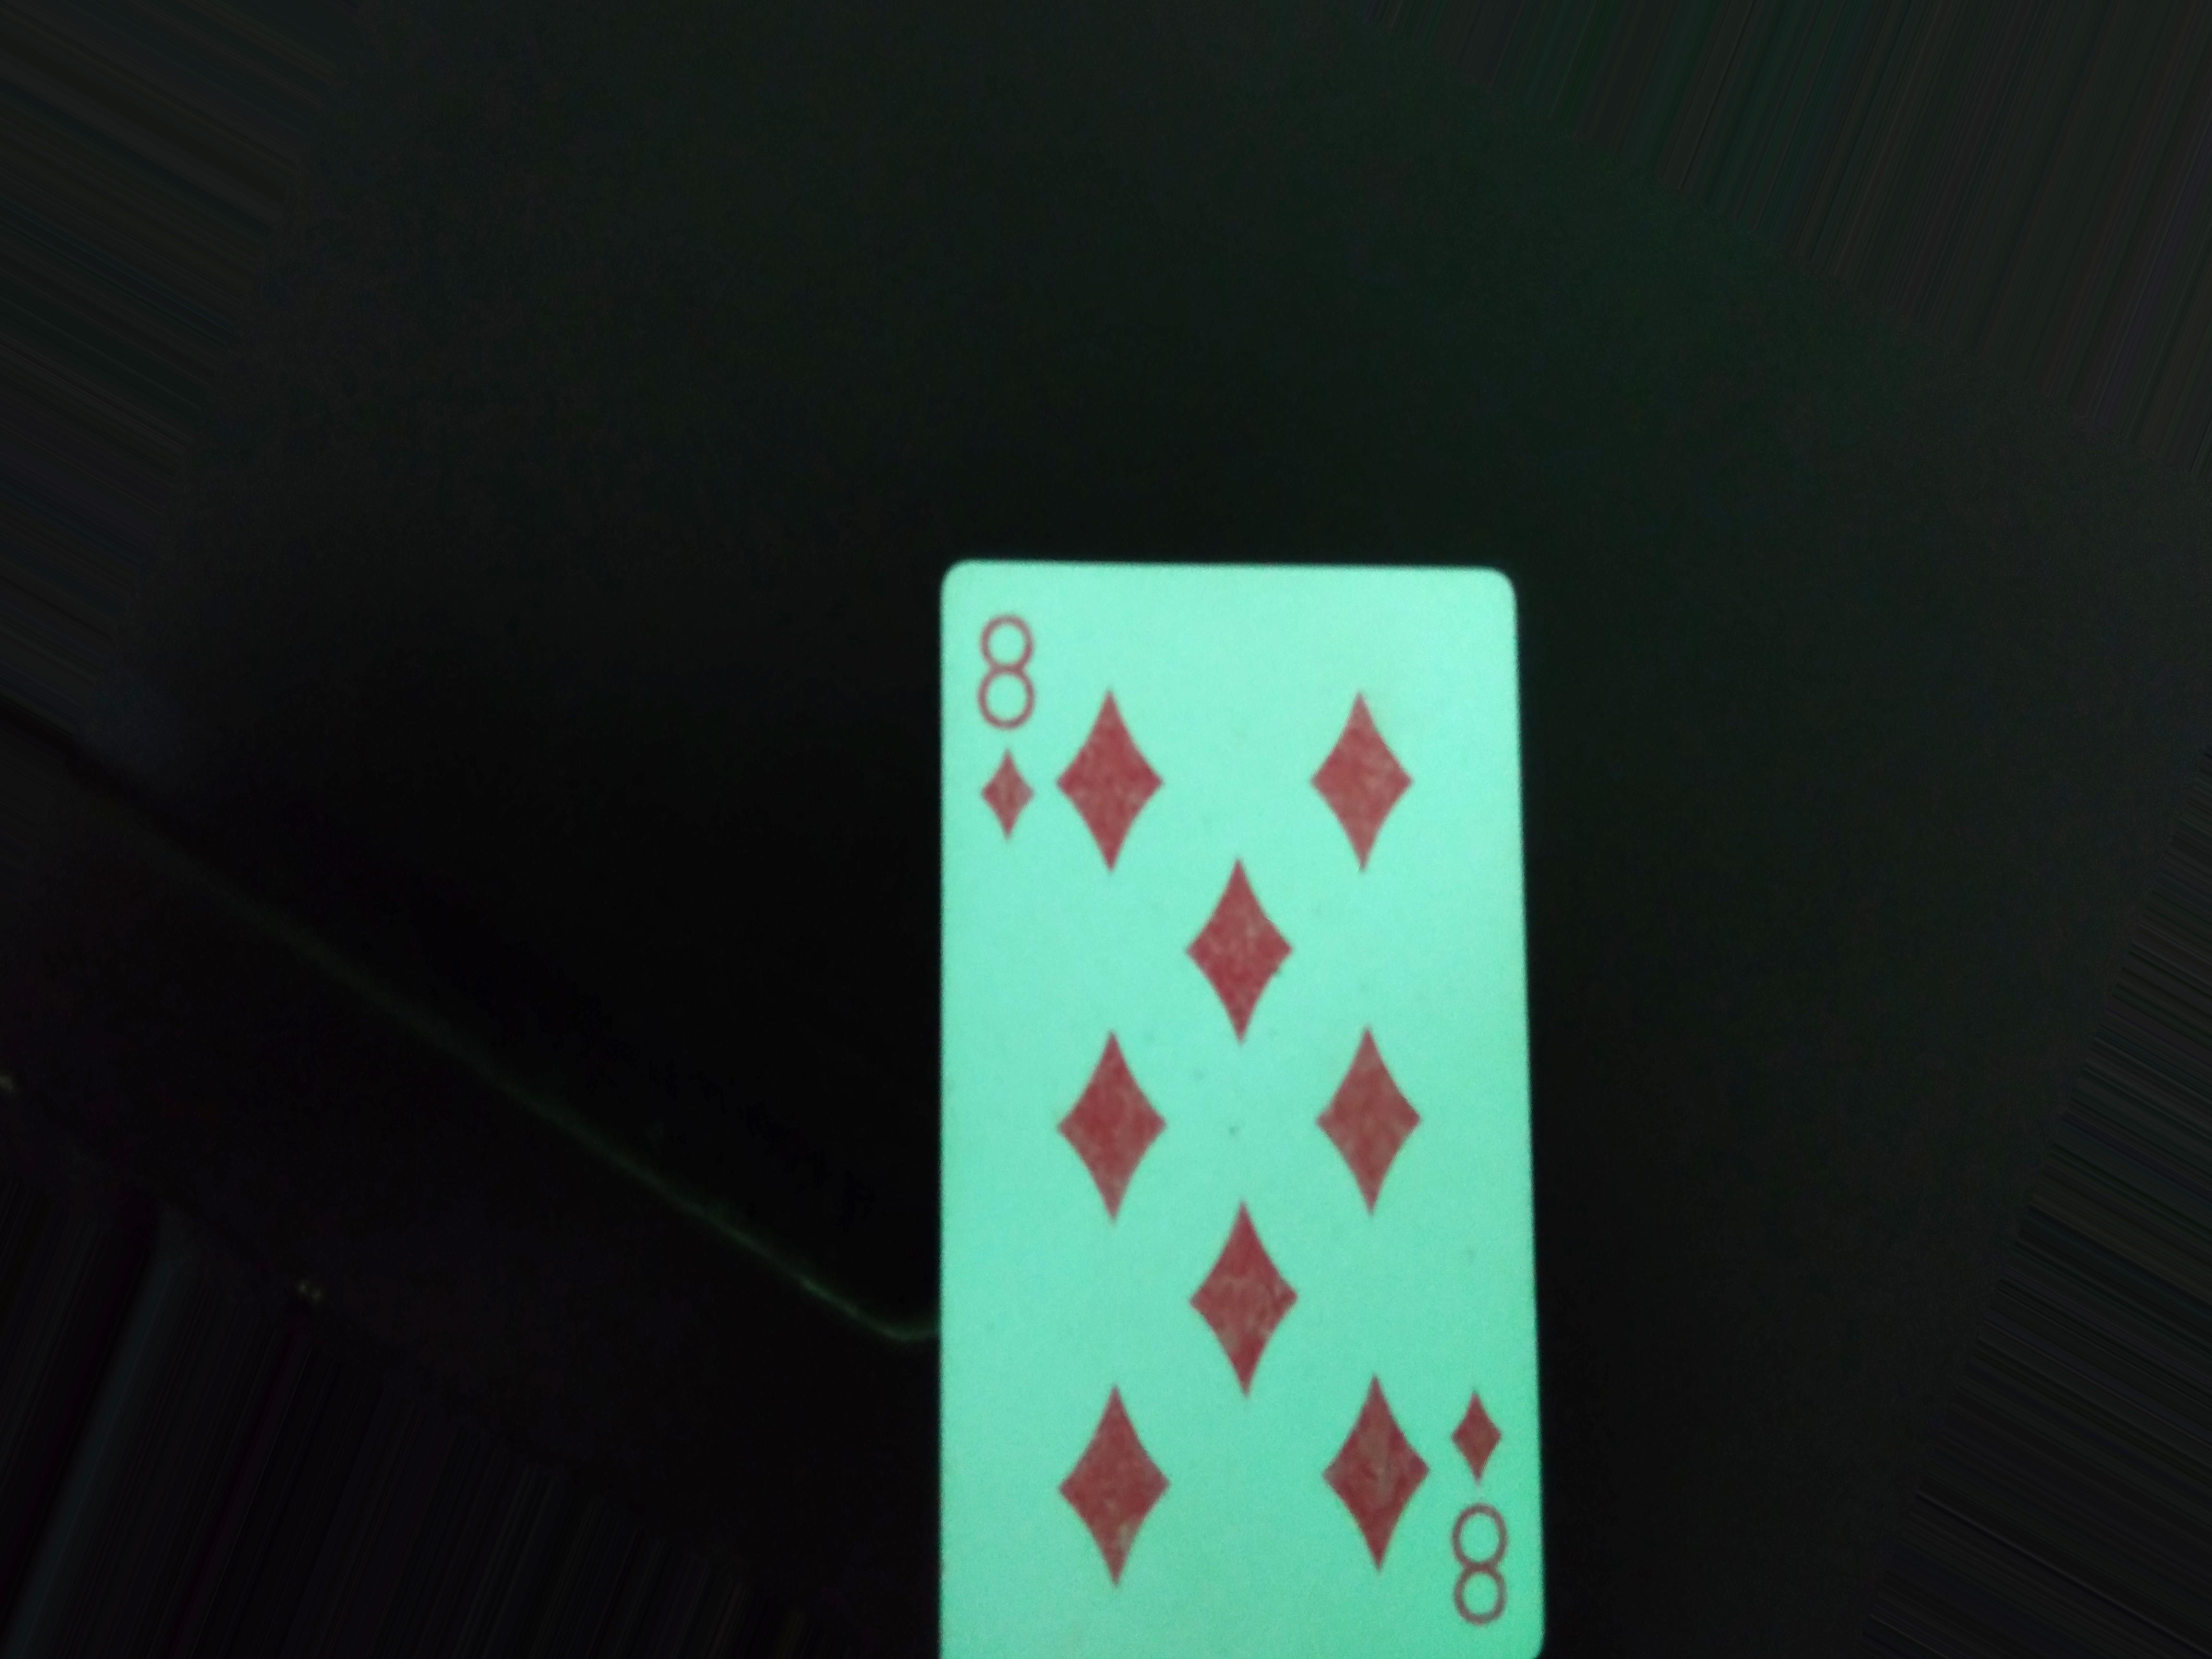8D: (1432, 1384, 1533, 1635)
